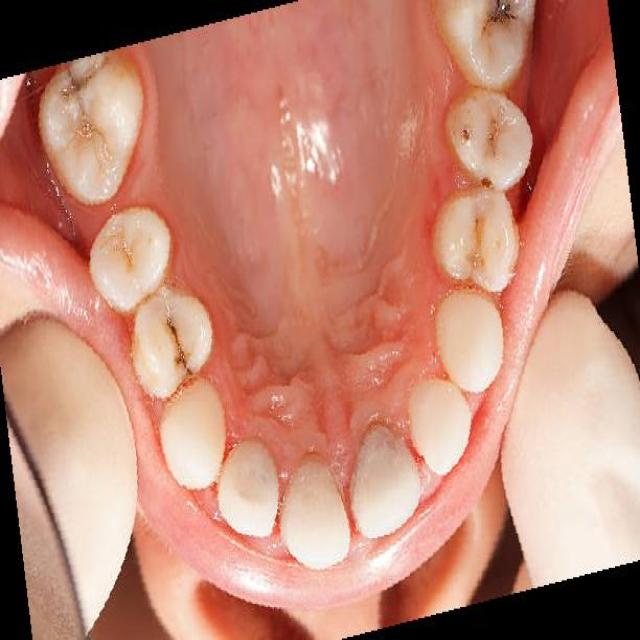caries: (57, 60, 110, 115), (162, 318, 196, 382), (481, 0, 521, 50), (487, 111, 512, 161), (476, 161, 496, 201), (456, 124, 478, 158)
